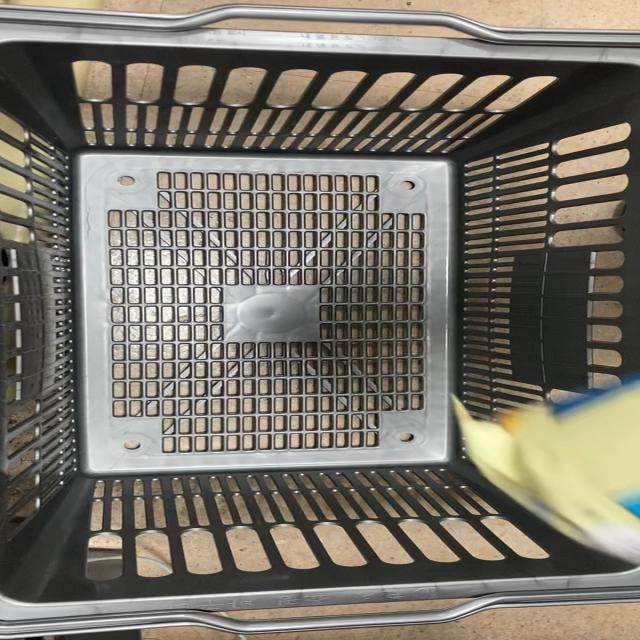ggobukchip: (442, 369, 640, 565)
